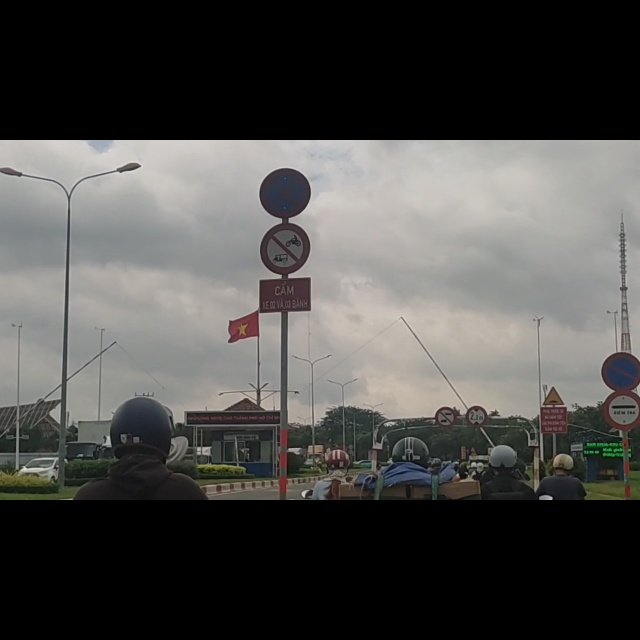bien_cam: (260, 149, 310, 238), (261, 51, 311, 139), (602, 447, 640, 514), (600, 378, 639, 441), (435, 473, 457, 513), (465, 471, 487, 511), (542, 439, 565, 473)
